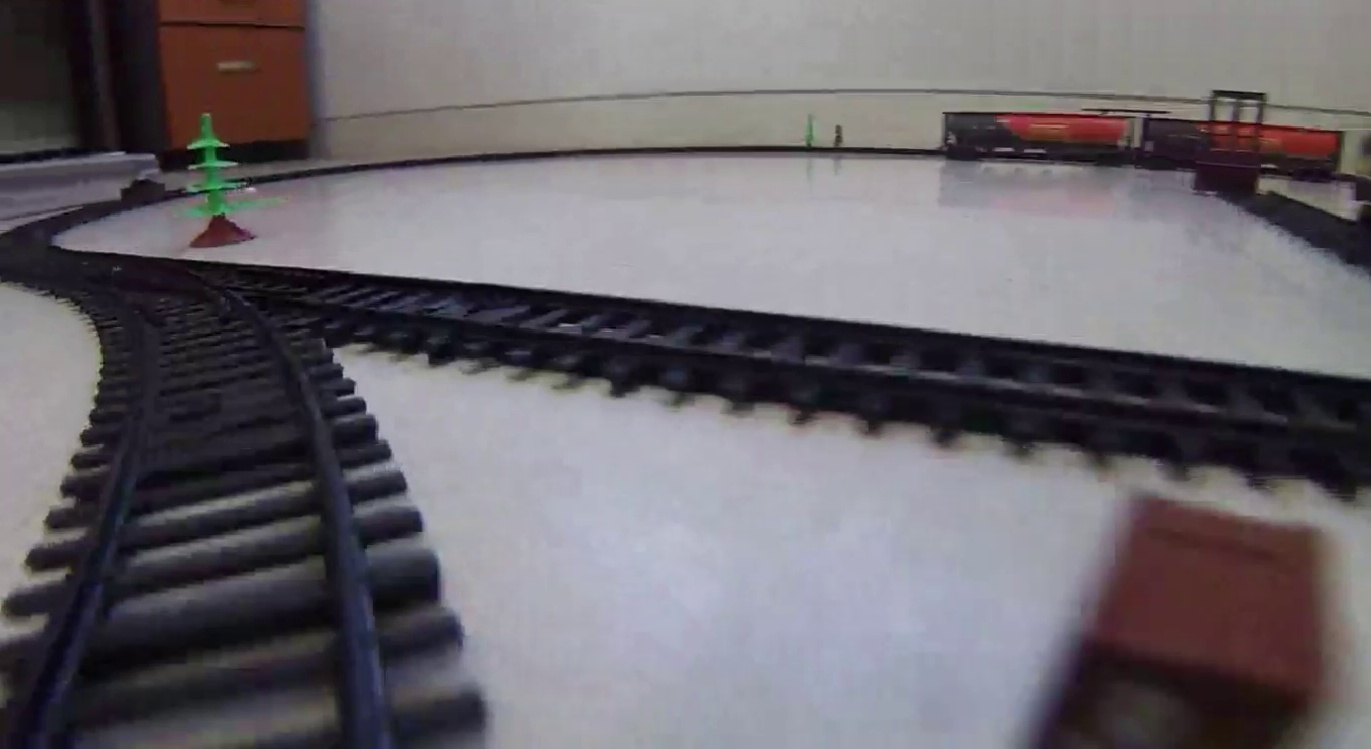box: (1078, 501, 1326, 749)
tree: (176, 112, 263, 248)
